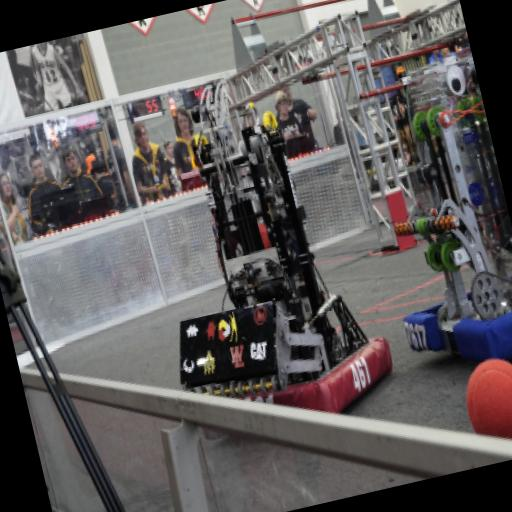robot: (118, 56, 404, 451), (352, 89, 512, 386)
